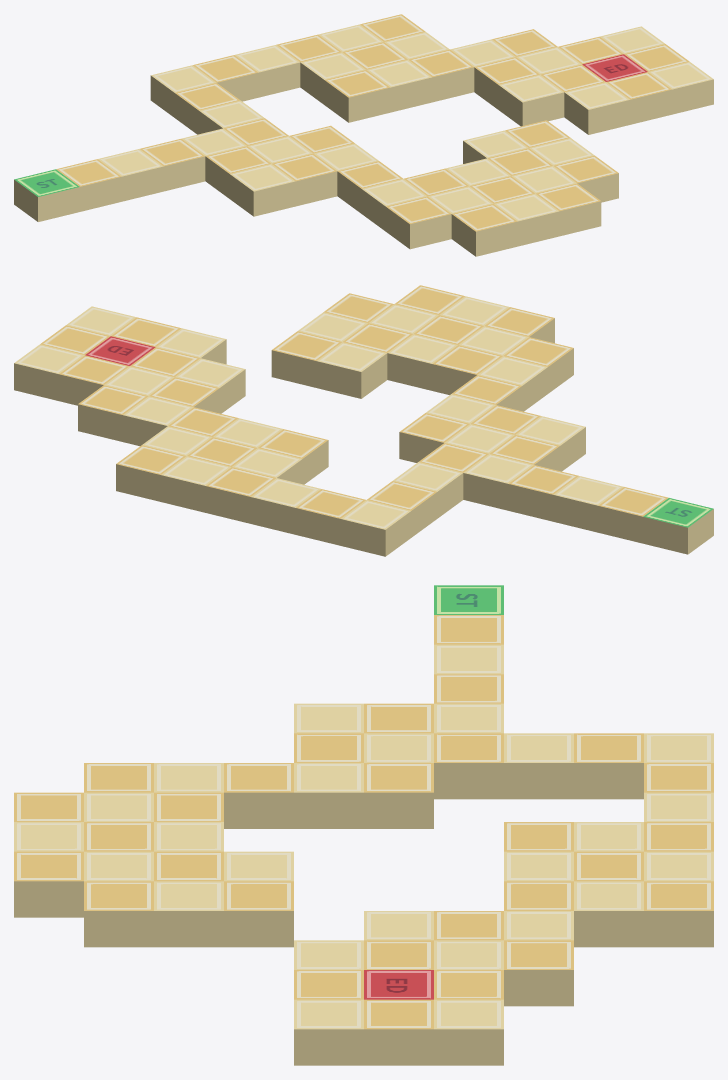
The model's file is mazeBlock4.glb.
3 views of the same model, one above another, from view 1: azimuth 30°, elevation 25°; view 2: azimuth 150°, elevation 25°; view 3: azimuth 270°, elevation 25° (orthographic). The views are drawn at different scales.
Visible parts, largest first — view 1: 立方体.051, 立方体.003, 立方体.012, 立方体.038, 立方体.016, 立方体.005, 立方体.047, 立方体.021, 立方体.007, 立方体.015, 立方体.039, 立方体.042 (+43 smaller); view 2: 立方体.026, 立方体.032, 立方体.005, 立方体.015, 立方体.018, 立方体.017, 立方体.020, 立方体.027, 立方体.033, 立方体.034, 立方体.035, 立方体.044 (+43 smaller); view 3: 立方体.001, 立方体.022, 立方体.027, 立方体.028, 立方体.029, 立方体.030, 立方体.031, 立方体.043, 立方体.044, 立方体.048, 立方体.055, 立方体.056 (+43 smaller).
Part boxes in pixels (x1,y1,x2,y2): 立方体.051: (564,82,630,134); 立方体.003: (229,164,295,216); 立方体.012: (385,196,451,249); 立方体.038: (324,70,390,122); 立方体.016: (451,204,517,256); 立方体.005: (14,169,79,221); 立方体.047: (498,74,564,126); 立方体.021: (494,193,559,246); 立方体.007: (272,153,337,206); 立方体.015: (98,149,163,201); 立方体.039: (367,60,432,112); 立方体.042: (408,49,474,102); 立方体.026: (316,342,387,398); 立方体.032: (340,500,411,556); 立方体.005: (643,498,713,554); 立方体.015: (553,476,623,532); 立方体.018: (508,465,578,521); 立方体.017: (463,454,533,510); 立方体.020: (387,334,457,390); 立方体.027: (271,331,341,387); 立方体.033: (295,489,365,545); 立方体.034: (250,478,320,534); 立方体.035: (205,467,275,523); 立方体.044: (116,445,186,501); 立方体.001: (434,733,503,799); 立方体.022: (14,851,83,917); 立方体.027: (224,881,293,947); 立方体.028: (154,881,223,947); 立方体.029: (84,881,153,947); 立方体.030: (504,733,573,799); 立方体.031: (574,733,643,799); 立方体.043: (574,881,643,947); 立方体.044: (644,881,713,947); 立方体.048: (504,940,573,1006); 立方体.055: (294,999,363,1065); 立方体.056: (364,999,433,1065).
Bounding box in the file's own units: 75 × 2.87 × 50.
Materials: 110 (55 with a texture image).
